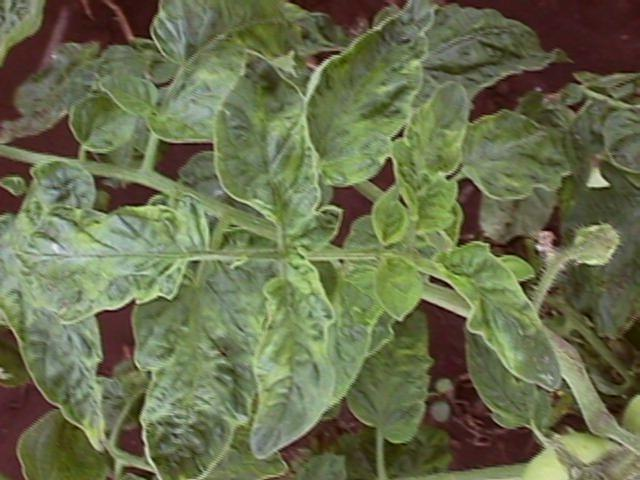Tomato leaf mosaic virus: (312, 5, 445, 192), (25, 201, 204, 320), (215, 50, 323, 240), (437, 243, 563, 397), (249, 263, 339, 462), (152, 297, 238, 473), (396, 78, 469, 233), (461, 113, 583, 199), (375, 251, 425, 322), (103, 67, 161, 114)
